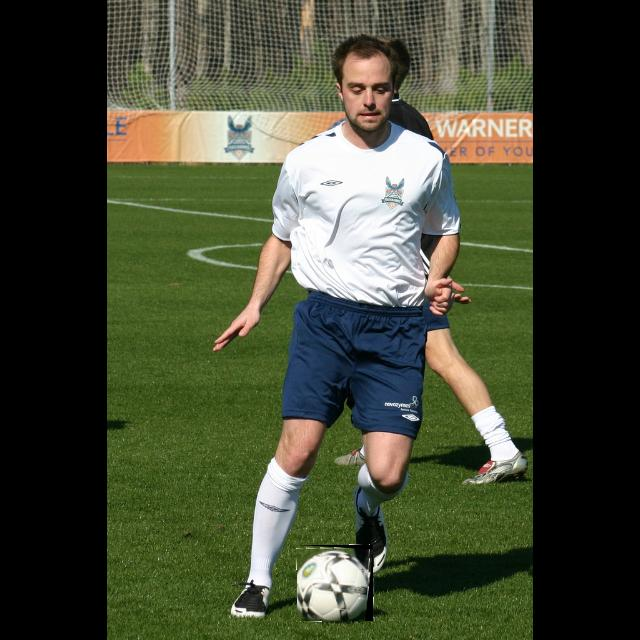Football: (297, 545, 373, 621)
